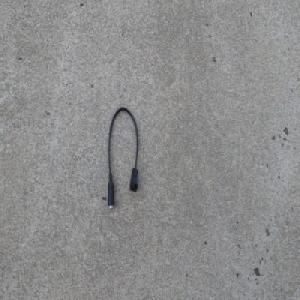Wire: (106, 105, 139, 210)
